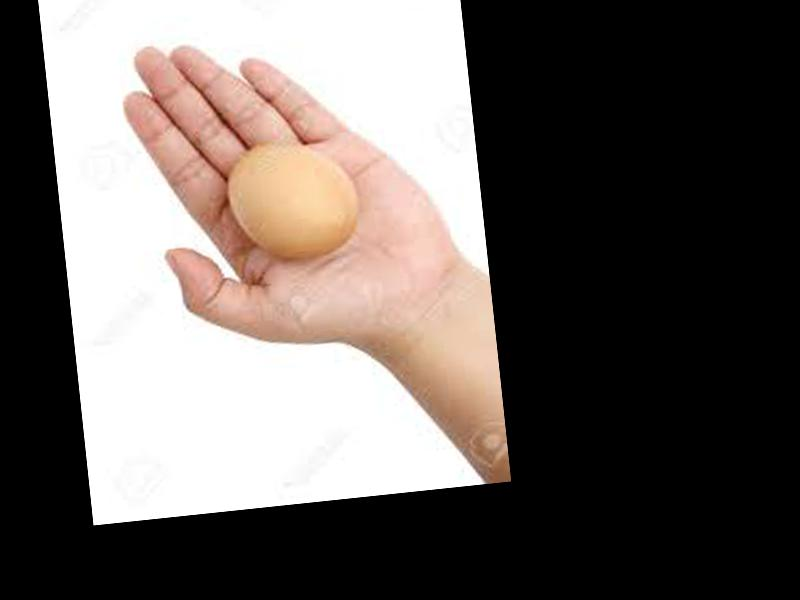Eggs: (225, 138, 362, 266)
